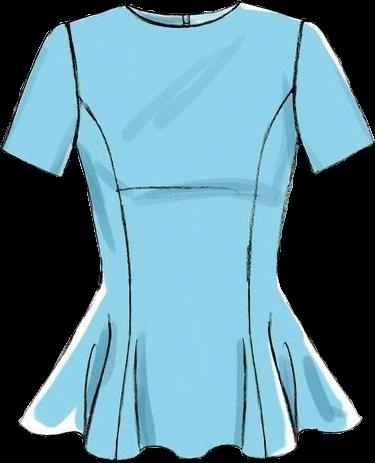Bodice: (19, 2, 361, 459)
Neckline: (124, 1, 241, 30)
Sleeve: (298, 21, 374, 172), (3, 24, 75, 175)
Sleeveline: (64, 20, 80, 139), (294, 19, 306, 140)
Waistline: (16, 417, 365, 462)
